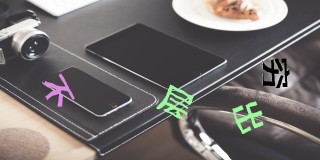不: (42, 73, 75, 108)
出: (231, 101, 263, 134)
层: (155, 84, 194, 120)
穷: (262, 57, 291, 90)
